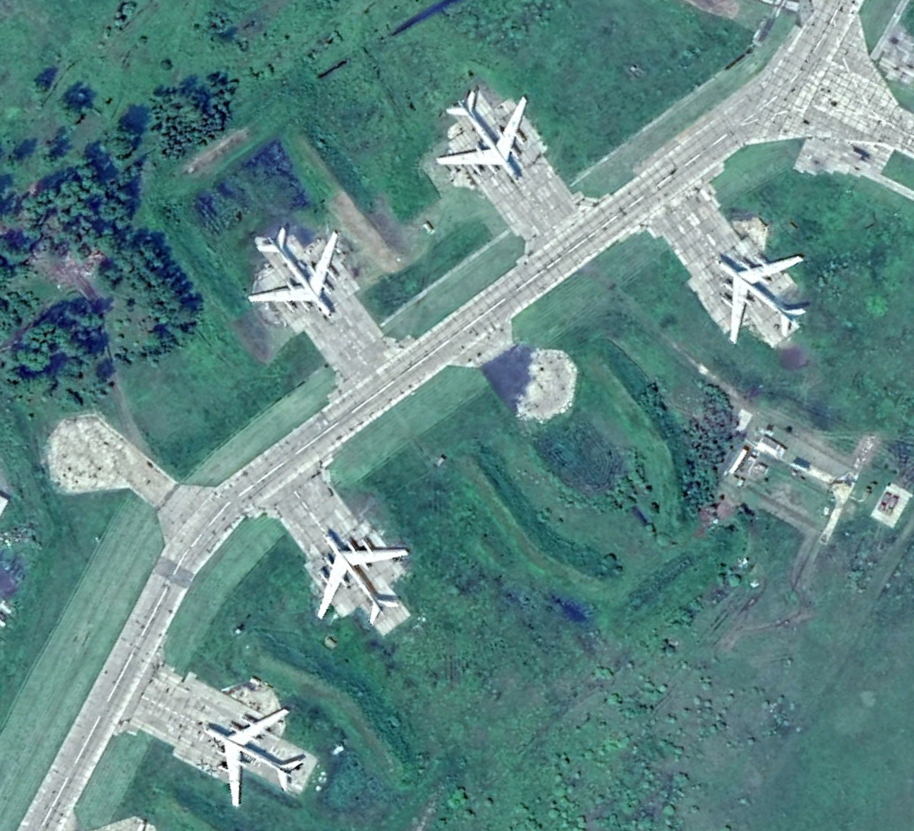A17: (195, 699, 311, 810), (702, 240, 816, 348), (308, 520, 409, 633), (244, 218, 346, 328), (433, 80, 529, 188)
